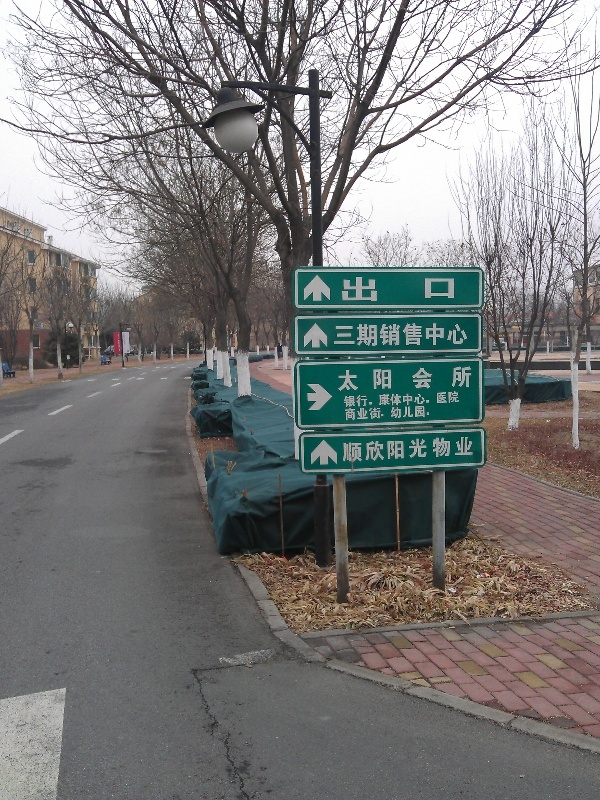text: (353, 436, 368, 463), (369, 436, 384, 463), (385, 436, 400, 463), (401, 436, 416, 463), (417, 436, 432, 463), (433, 436, 448, 463), (449, 436, 464, 463), (337, 322, 352, 348), (353, 322, 368, 348), (369, 322, 384, 348), (385, 322, 400, 348), (401, 322, 416, 348), (417, 322, 432, 348), (433, 322, 448, 348), (449, 322, 464, 348), (353, 277, 368, 302), (369, 277, 384, 302), (385, 277, 400, 302), (401, 277, 416, 302), (417, 277, 432, 302), (433, 277, 448, 302), (337, 366, 352, 391), (353, 366, 368, 391), (369, 366, 384, 391), (385, 366, 400, 391), (401, 366, 416, 391), (417, 366, 432, 391), (433, 366, 448, 391), (449, 366, 464, 391), (339, 436, 352, 463), (338, 277, 352, 302), (449, 277, 460, 302), (353, 391, 368, 408), (369, 391, 384, 408), (385, 391, 400, 408), (401, 391, 416, 408), (417, 391, 432, 408), (433, 391, 448, 408), (465, 436, 474, 463), (465, 366, 474, 391), (353, 406, 368, 421), (369, 406, 384, 421), (385, 406, 400, 421), (401, 406, 416, 421), (417, 406, 430, 421), (449, 391, 460, 408), (118, 334, 128, 351), (465, 322, 471, 348), (343, 391, 352, 408), (331, 322, 336, 348), (344, 406, 352, 421), (124, 334, 128, 346), (335, 366, 336, 391)
